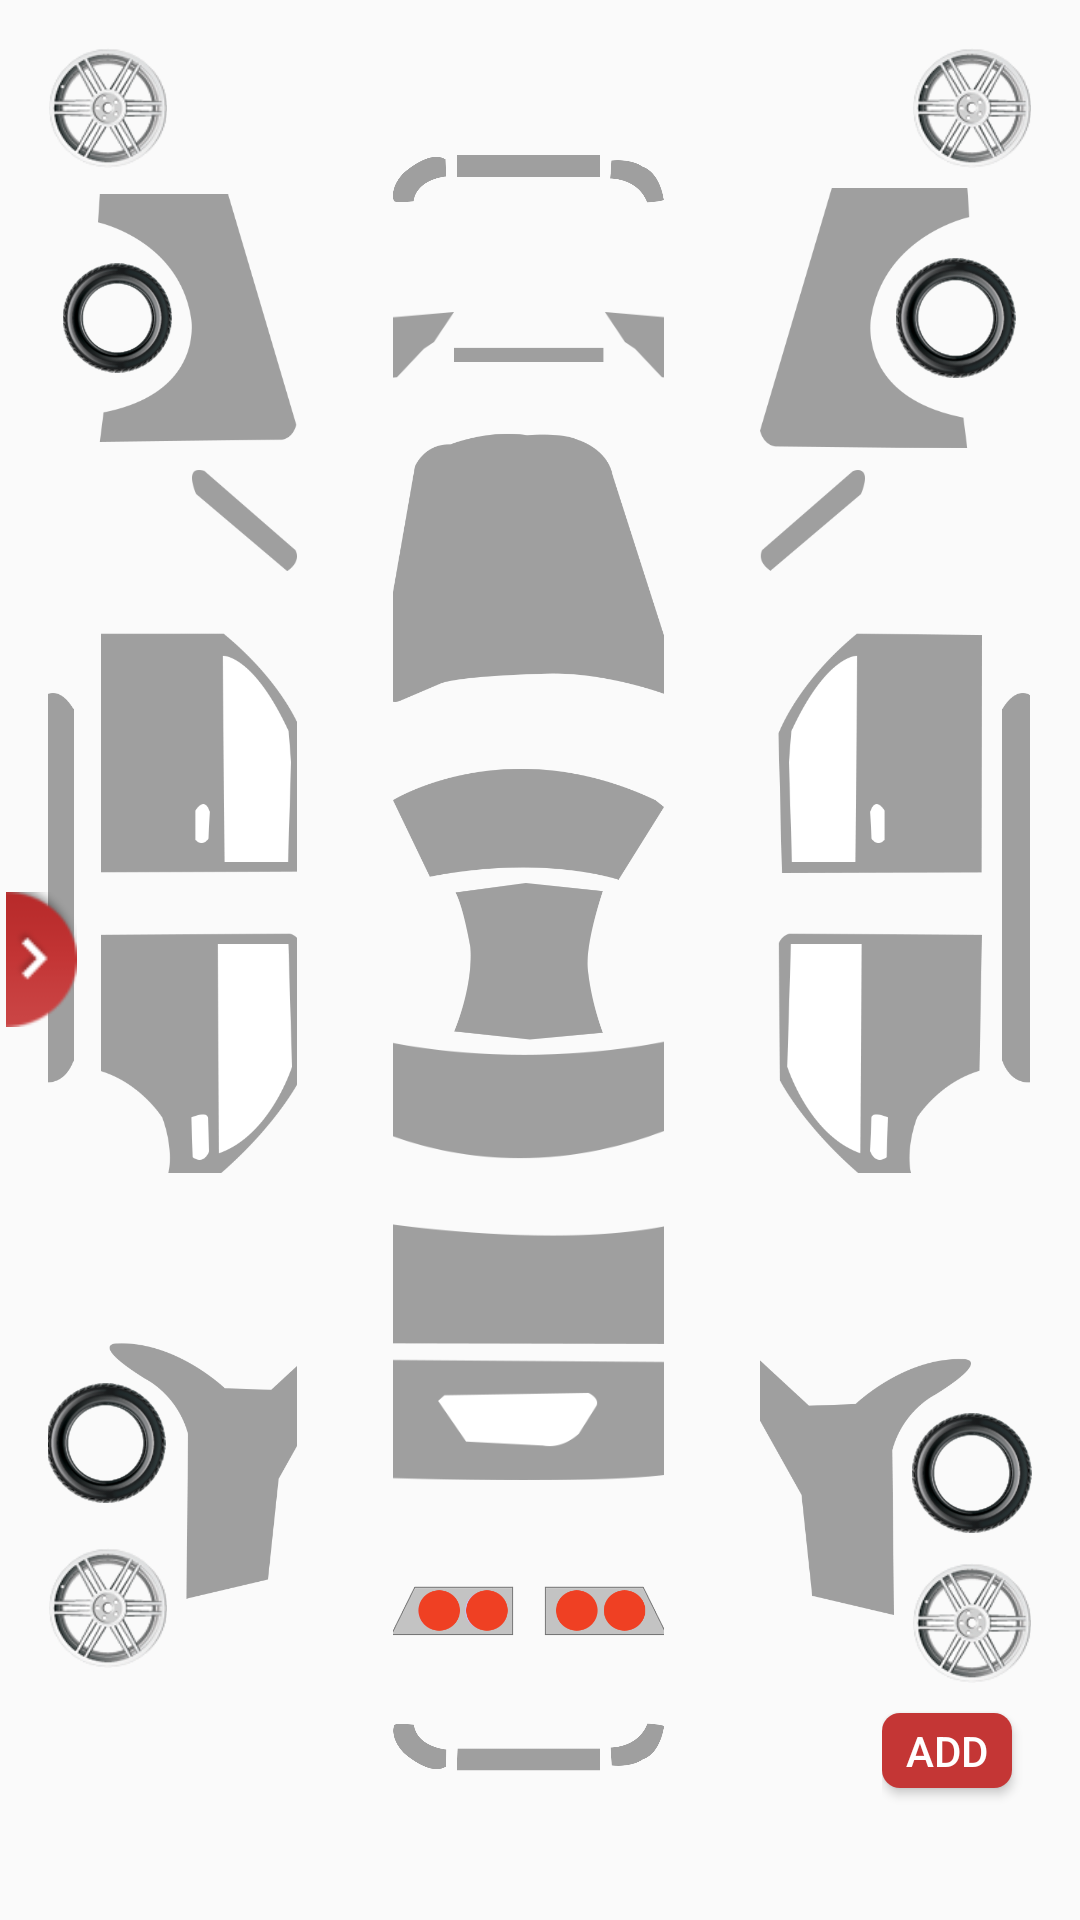

Named icons in this screenshot (1080w x 1920h) and their bounding boxes, {"x1": x1, "y1": y1, "x2": x2, "y2": y2}:
bonnet: {"x1": 393, "y1": 434, "x2": 664, "y2": 702}
bumper rear: {"x1": 393, "y1": 1724, "x2": 664, "y2": 1770}
door front right: {"x1": 778, "y1": 634, "x2": 982, "y2": 873}
door rear right: {"x1": 779, "y1": 934, "x2": 982, "y2": 1173}
pillar left: {"x1": 192, "y1": 470, "x2": 297, "y2": 571}
pillar right: {"x1": 761, "y1": 470, "x2": 865, "y2": 571}
rim: {"x1": 50, "y1": 50, "x2": 167, "y2": 163}, {"x1": 914, "y1": 50, "x2": 1031, "y2": 163}, {"x1": 50, "y1": 1550, "x2": 167, "y2": 1663}, {"x1": 914, "y1": 1565, "x2": 1031, "y2": 1678}
roof: {"x1": 454, "y1": 883, "x2": 603, "y2": 1040}
tail left: {"x1": 393, "y1": 1586, "x2": 513, "y2": 1635}
tail right: {"x1": 545, "y1": 1586, "x2": 664, "y2": 1635}
windshield front: {"x1": 393, "y1": 769, "x2": 664, "y2": 880}
